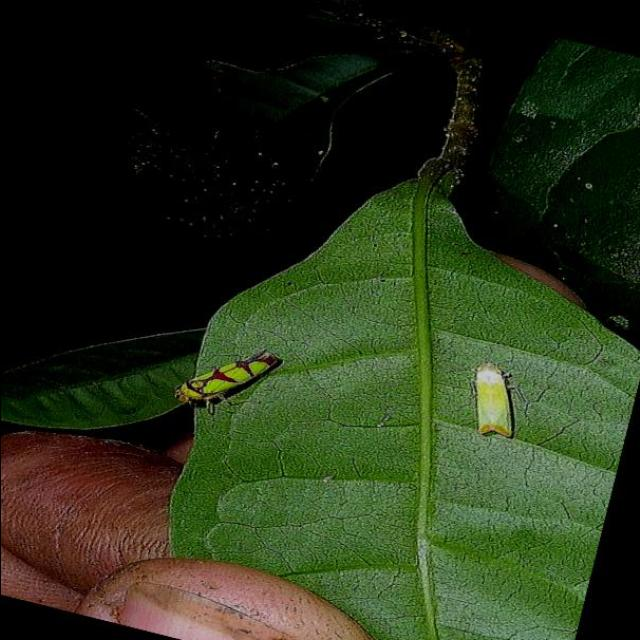green leaf hopper: (175, 352, 279, 407), (474, 363, 512, 437)
